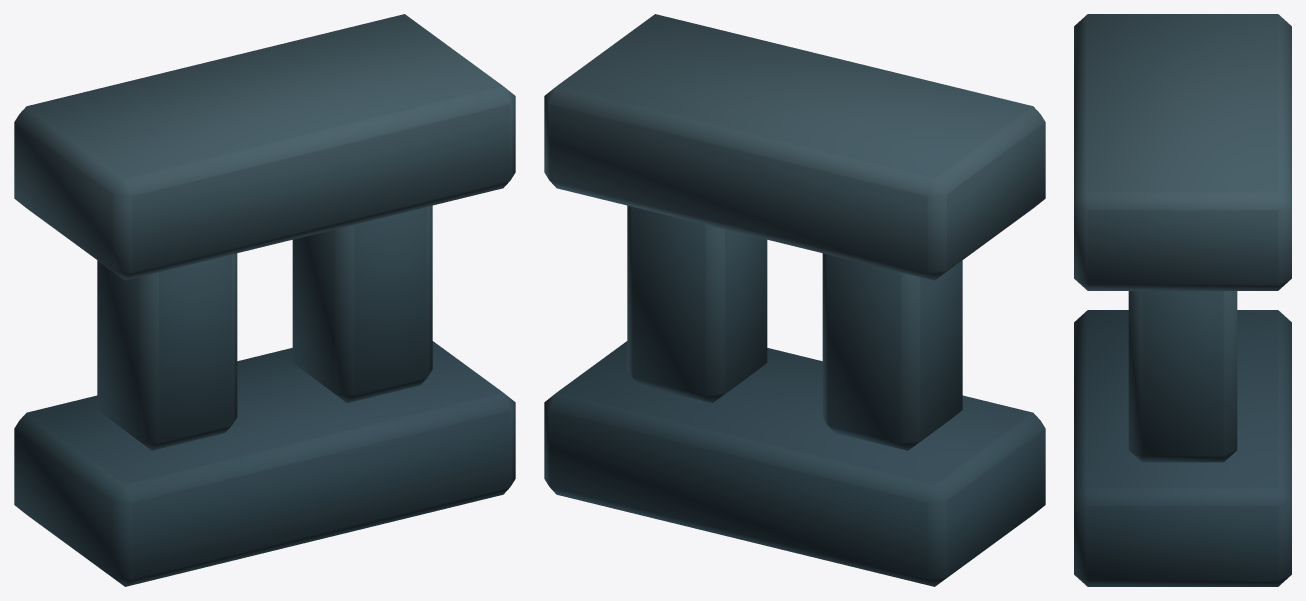
The model's file is fence_01_hue_3.fbx.
The picture shows the model from 3 angles, left to right: view 1: azimuth 30°, elevation 25°; view 2: azimuth 150°, elevation 25°; view 3: azimuth 270°, elevation 25°; orthographic projection. The views are drawn at different scales.
Visible parts, largest first — view 1: fence_01_hue_3; view 2: fence_01_hue_3; view 3: fence_01_hue_3.
Part boxes in pixels (x1=…): fence_01_hue_3: x1=14, y1=14, x2=515, y2=586; fence_01_hue_3: x1=544, y1=14, x2=1045, y2=586; fence_01_hue_3: x1=1074, y1=14, x2=1291, y2=586.
Bounding box in the file's own units: 103 × 100 × 50.
